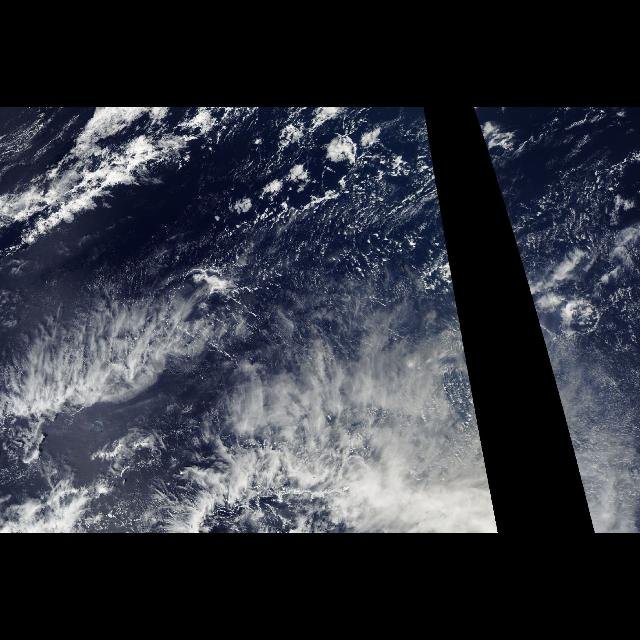Fish: (1, 108, 406, 468)
Sugar: (165, 176, 463, 340)
